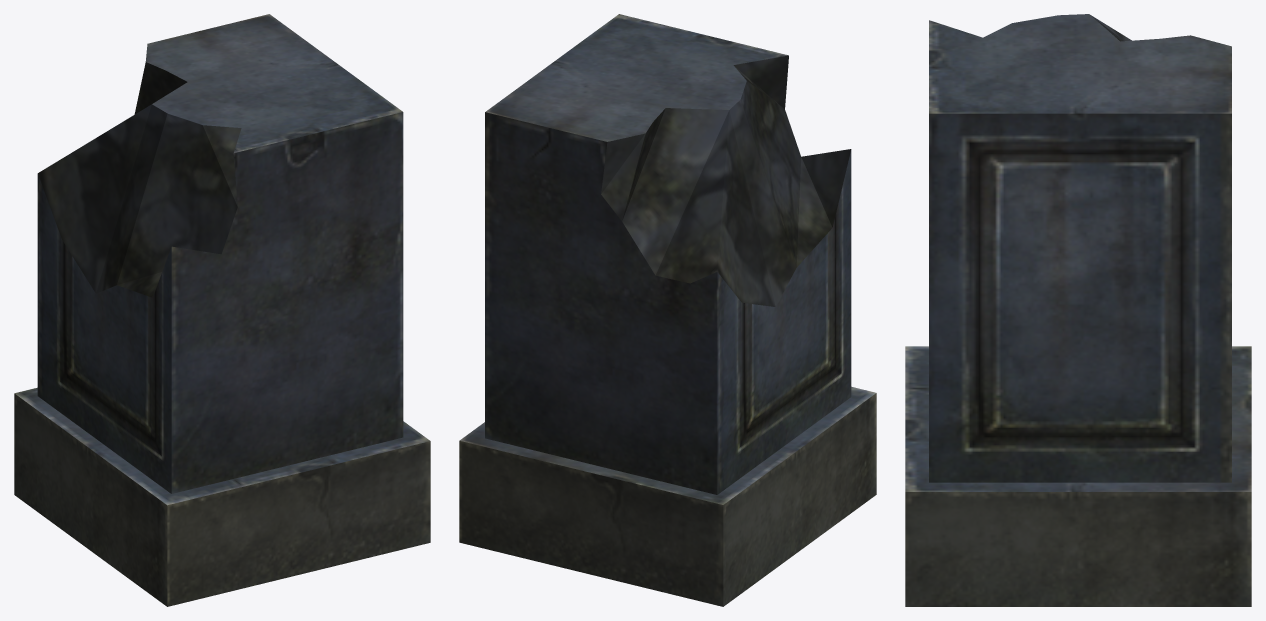
File: C_shizhu003.fbx
3 views of the same model, side by side, from view 1: azimuth 30°, elevation 25°; view 2: azimuth 150°, elevation 25°; view 3: azimuth 270°, elevation 25° (orthographic). The views are drawn at different scales.
Parts seen in each view (by area): view 1: C_shizhu003; view 2: C_shizhu003; view 3: C_shizhu003.
Part boxes in pixels (left/top/right/bottom): C_shizhu003: left=14, top=14, right=430, bottom=606; C_shizhu003: left=459, top=14, right=876, bottom=606; C_shizhu003: left=905, top=14, right=1251, bottom=606.
Size of the model in its own units: 76.38 by 118 by 76.87.
